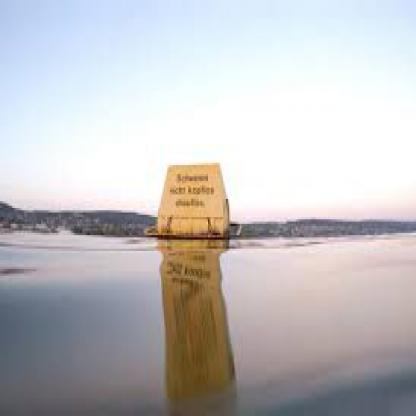buoy: (137, 154, 249, 258)
